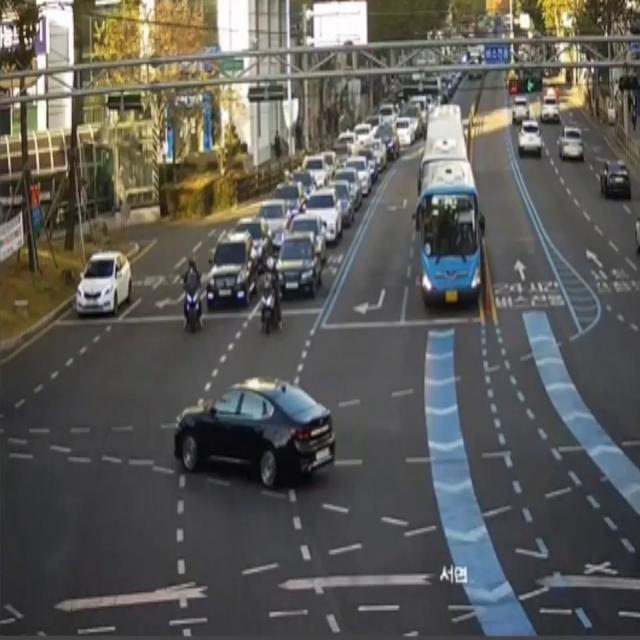bus: (183, 250, 205, 333), (260, 266, 282, 336)
motorcycle: (170, 381, 336, 487), (418, 102, 482, 315), (207, 226, 256, 312), (75, 248, 134, 317), (276, 234, 322, 299), (303, 191, 344, 241), (238, 213, 270, 277), (289, 212, 325, 265), (258, 200, 286, 253), (271, 185, 304, 228), (602, 155, 631, 202), (518, 119, 542, 160), (558, 124, 584, 159), (540, 95, 560, 125), (512, 95, 530, 126)
